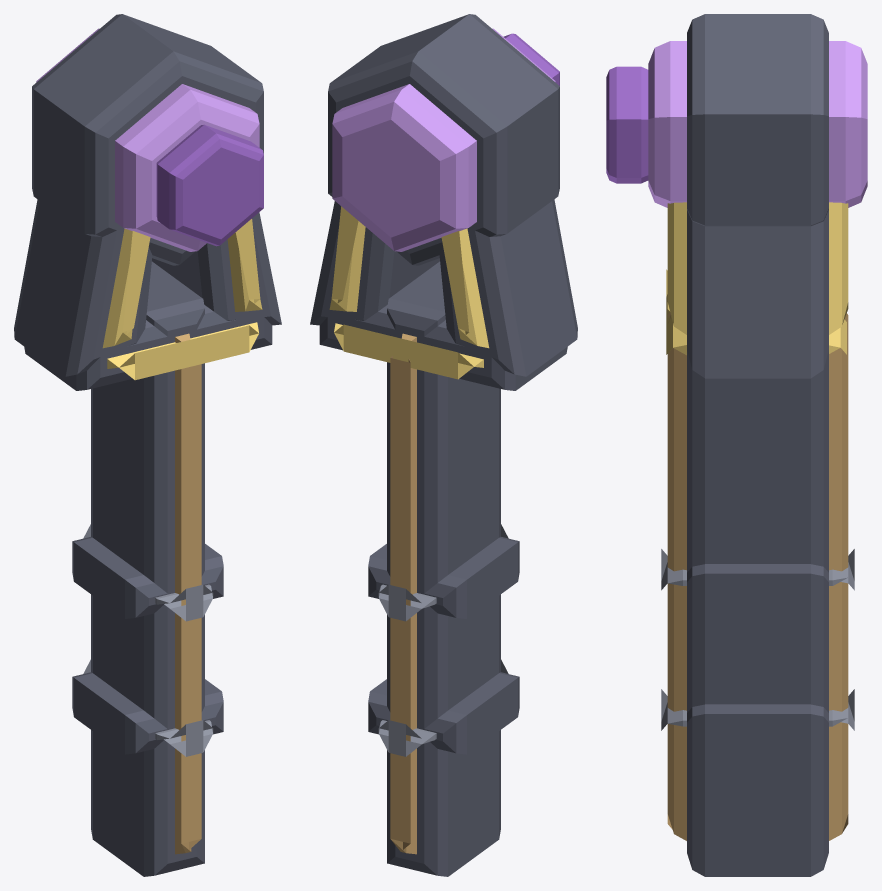
The model's file is game-ui-icon-library-staff-glyph-019434a6__19023.glb.
The picture shows the model from 3 angles, left to right: view 1: azimuth 30°, elevation 25°; view 2: azimuth 150°, elevation 25°; view 3: azimuth 270°, elevation 25°; orthographic projection. The views are drawn at different scales.
Parts seen in each view (by area): view 1: staff-glyph; view 2: staff-glyph; view 3: staff-glyph.
Boxes of the visible parts, x1,y1,x2,y2 form: staff-glyph: (14, 14, 281, 876); staff-glyph: (310, 14, 577, 876); staff-glyph: (606, 14, 867, 876).
Size of the model in its own units: 0.2594 by 0.94 by 0.2626.
